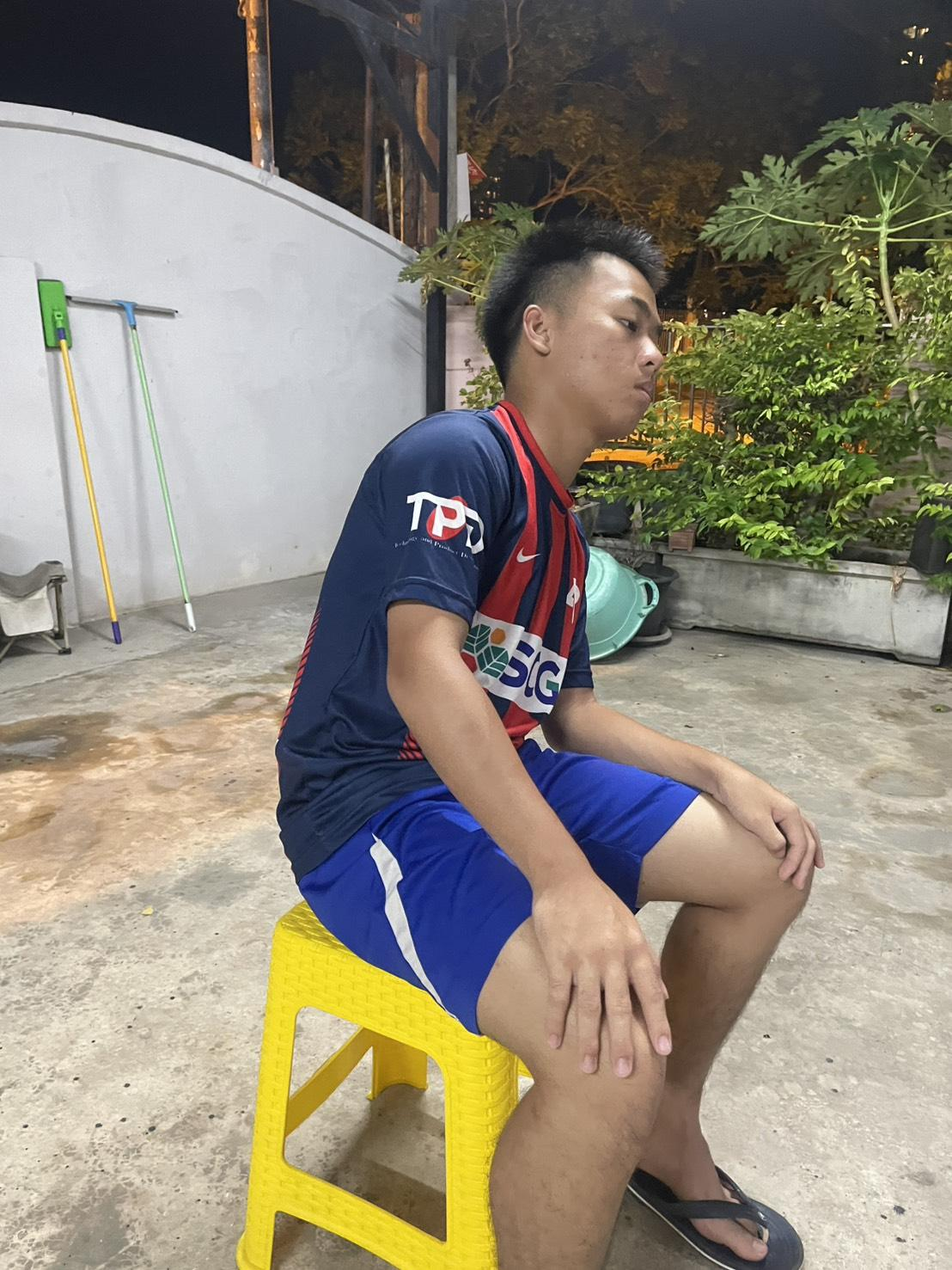BadPosture: (277, 219, 663, 881)
